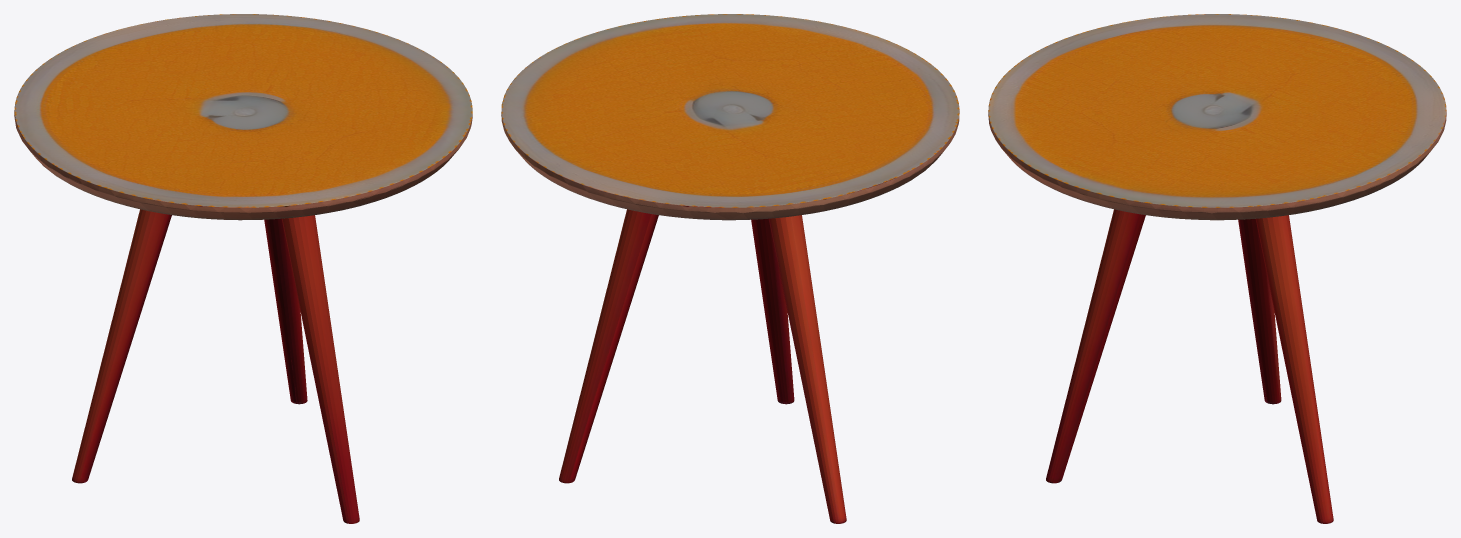
Rendered from edited_mesh.glb.
The picture shows the model from 3 angles, left to right: view 1: azimuth 30°, elevation 25°; view 2: azimuth 150°, elevation 25°; view 3: azimuth 270°, elevation 25°; orthographic projection.
Visible parts, largest first — view 1: normalized_model.obj; view 2: normalized_model.obj; view 3: normalized_model.obj.
Part boxes in pixels (bbox=[...]): normalized_model.obj: bbox=[14, 14, 472, 523]; normalized_model.obj: bbox=[501, 14, 959, 523]; normalized_model.obj: bbox=[988, 14, 1446, 523].
Bounding box in the file's own units: 1.47 × 1.26 × 1.47.
Materials: 1 (1 with a texture image).
